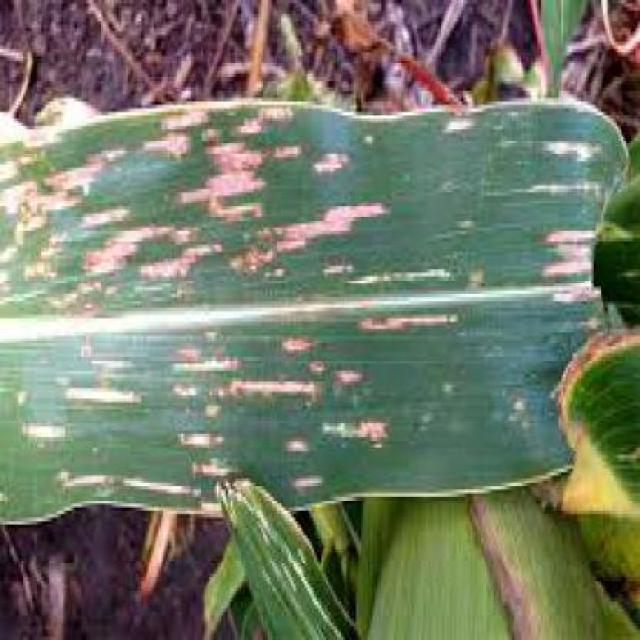Corn_Grey_Leaf_Spot: (0, 92, 597, 505)
